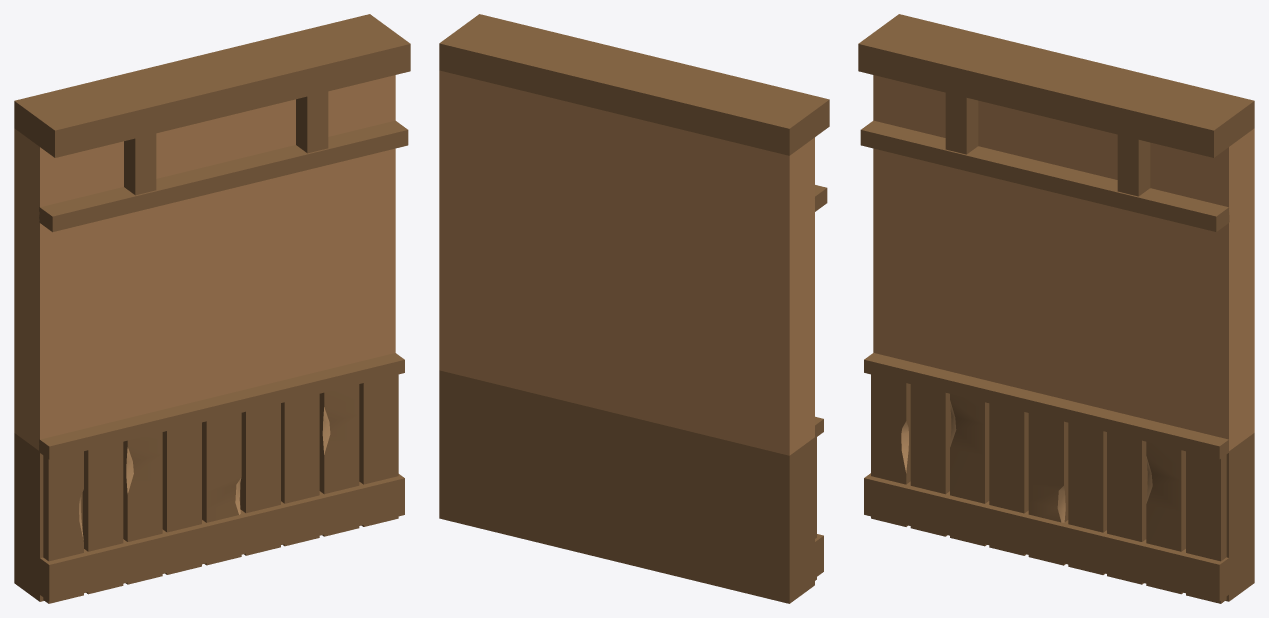
The model's file is wall-normal.glb.
The picture shows the model from 3 angles, left to right: view 1: azimuth 30°, elevation 25°; view 2: azimuth 150°, elevation 25°; view 3: azimuth 330°, elevation 25°; orthographic projection.
Parts seen in each view (by area): view 1: Wall_Normal; view 2: Wall_Normal; view 3: Wall_Normal.
Part boxes in pixels (box(x1,y1,x2,y2)): Wall_Normal: box(14, 14, 410, 603); Wall_Normal: box(439, 14, 829, 603); Wall_Normal: box(858, 14, 1254, 603).
Bounding box in the file's own units: 4 × 5.18 × 0.7949.
